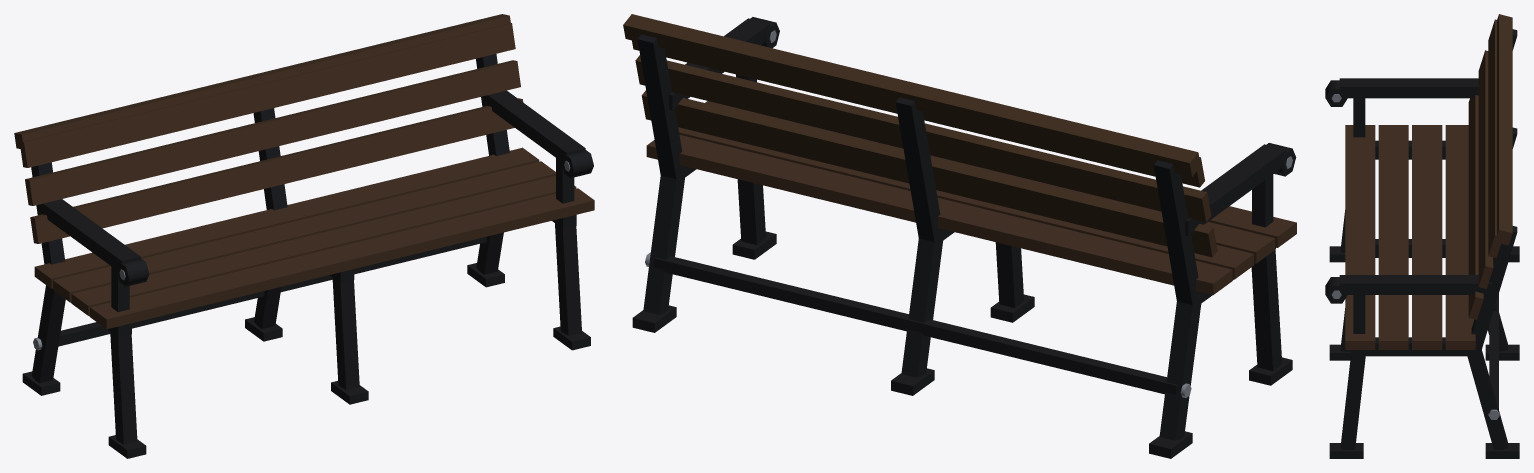
The picture shows the model from 3 angles, left to right: view 1: azimuth 30°, elevation 25°; view 2: azimuth 150°, elevation 25°; view 3: azimuth 270°, elevation 25°; orthographic projection. The views are drawn at different scales.
Visible parts, largest first — view 1: backrest_dark_wood, seat_dark_wood, frame_iron_black, armrests_iron_black, stretcher_iron_black; view 2: backrest_dark_wood, frame_iron_black, seat_dark_wood, stretcher_iron_black, armrests_iron_black; view 3: seat_dark_wood, backrest_dark_wood, frame_iron_black, armrests_iron_black, stretcher_iron_black.
Boxes of the visible parts, x1=… form: backrest_dark_wood: x1=14, y1=14, x2=523, y2=243; seat_dark_wood: x1=34, y1=147, x2=594, y2=329; frame_iron_black: x1=22, y1=54, x2=590, y2=458; armrests_iron_black: x1=37, y1=90, x2=593, y2=286; stretcher_iron_black: x1=58, y1=236, x2=486, y2=346; backrest_dark_wood: x1=623, y1=14, x2=1217, y2=257; frame_iron_black: x1=632, y1=34, x2=1292, y2=458; seat_dark_wood: x1=646, y1=101, x2=1296, y2=294; stretcher_iron_black: x1=653, y1=256, x2=1177, y2=394; armrests_iron_black: x1=669, y1=17, x2=1296, y2=235; seat_dark_wood: x1=1345, y1=125, x2=1475, y2=349; backrest_dark_wood: x1=1468, y1=14, x2=1512, y2=319; frame_iron_black: x1=1329, y1=29, x2=1519, y2=458; armrests_iron_black: x1=1325, y1=78, x2=1492, y2=303; stretcher_iron_black: x1=1489, y1=294, x2=1498, y2=412.
Bounding box in the file's own units: 1.8 × 0.9123 × 0.685.
